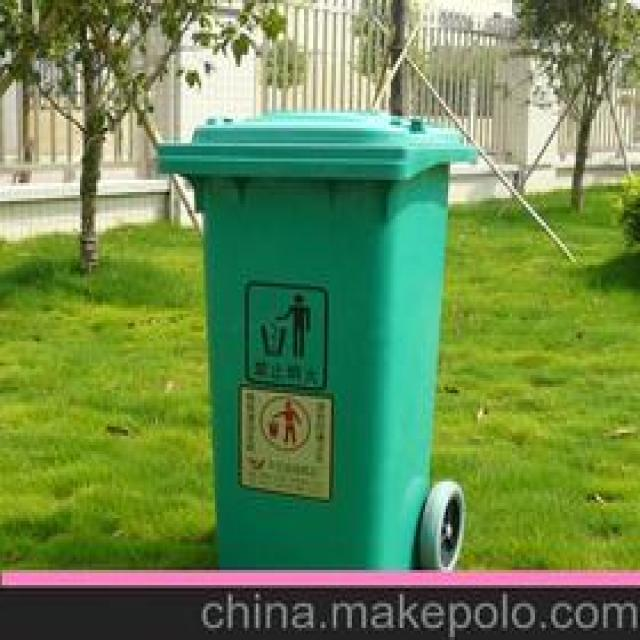garbage_bin: (153, 110, 478, 564)
